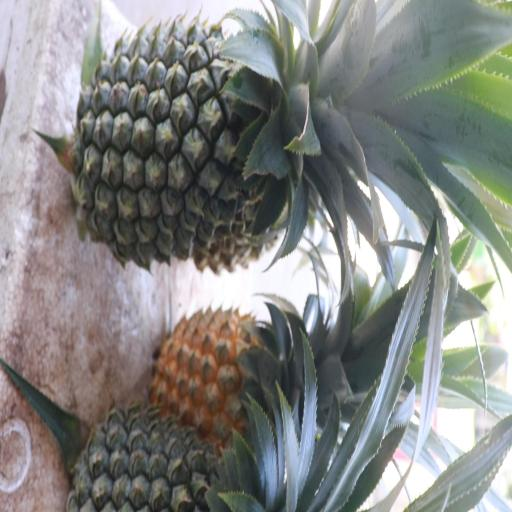Pineapple - v8 v1: (160, 285, 336, 442)
